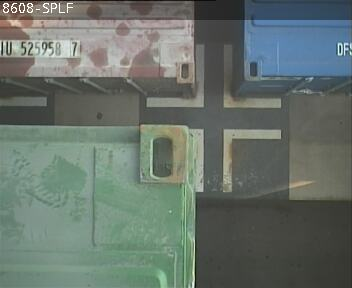groundmarker_1: (145, 44, 280, 107), (191, 128, 281, 191)
